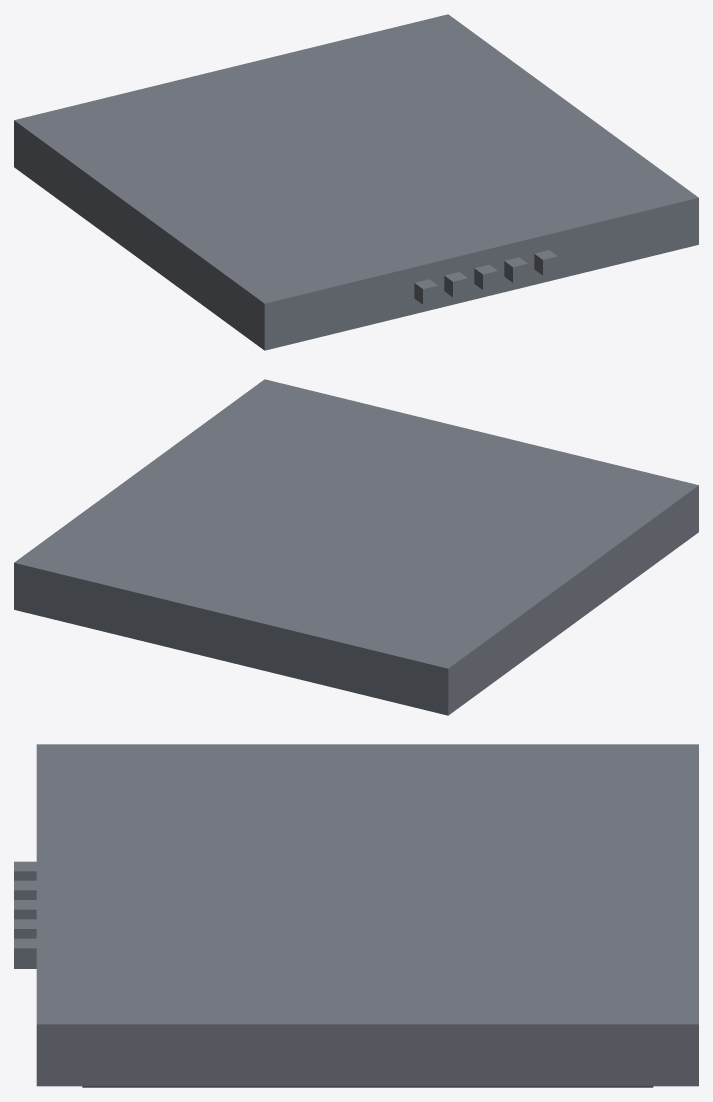
File: stove ventilation.obj
3 renders of one model, top to bottom at view 1: azimuth 30°, elevation 25°; view 2: azimuth 150°, elevation 25°; view 3: azimuth 270°, elevation 25°, orthographic. The views are drawn at different scales.
Bounding box in the file's own units: 2.9 × 0.4 × 3.
1 material, 1 textured.
